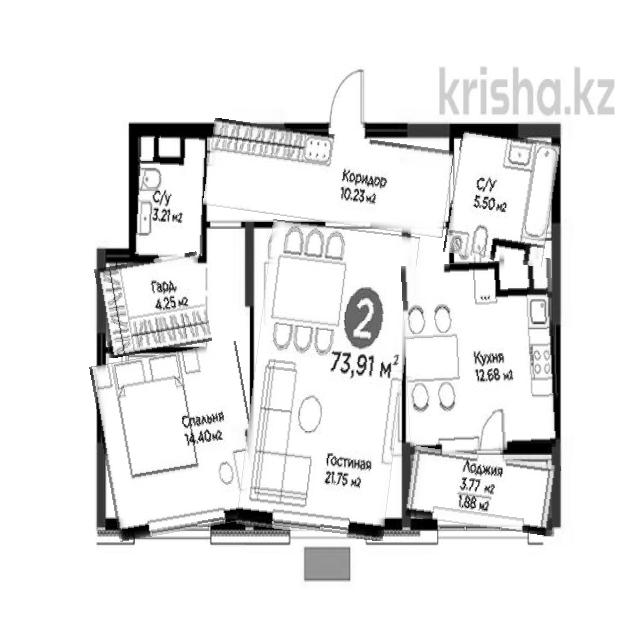balcony: (406, 450, 560, 531)
bathroom: (448, 132, 556, 263), (131, 131, 206, 260)
hallway: (205, 126, 452, 230)
kitchen: (404, 260, 558, 453)
living_room: (245, 223, 411, 538), (96, 347, 259, 537)
other: (98, 255, 208, 354)
